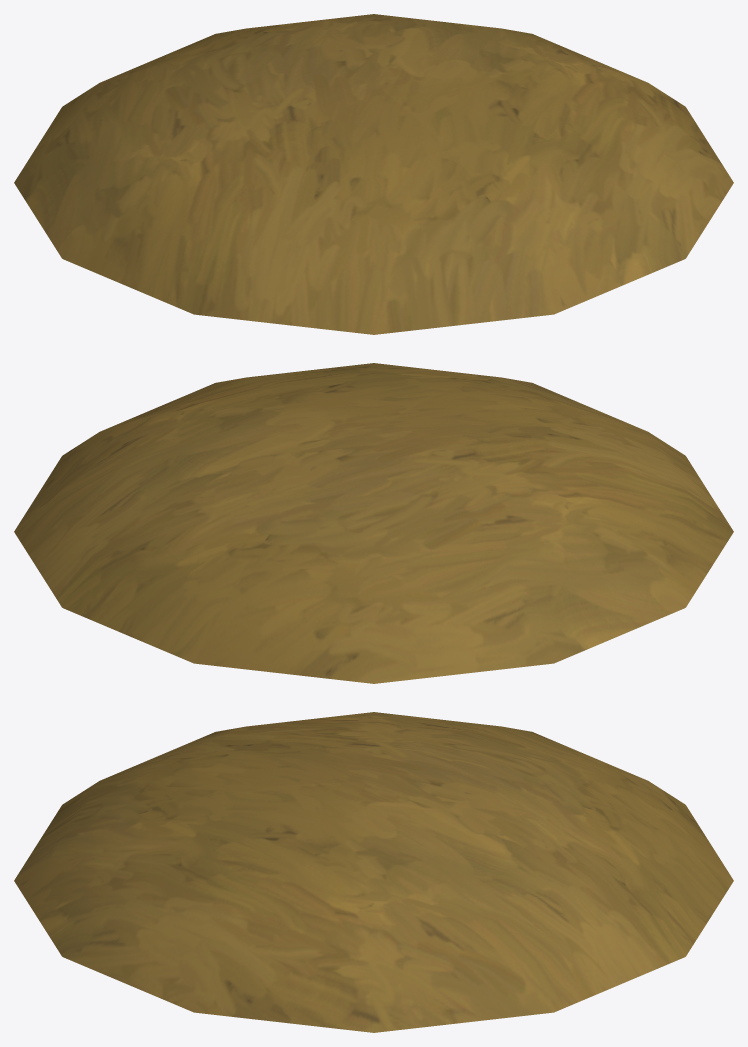
The model's file is e_courtyard_dirtmound.fbx.
3 renders of one model, top to bottom at view 1: azimuth 30°, elevation 25°; view 2: azimuth 150°, elevation 25°; view 3: azimuth 270°, elevation 25°, orthographic.
Parts seen in each view (by area): view 1: pSphere1; view 2: pSphere1; view 3: pSphere1.
Part boxes in pixels (left/top/right/bottom): pSphere1: left=14, top=14, right=733, bottom=334; pSphere1: left=14, top=363, right=733, bottom=683; pSphere1: left=14, top=712, right=733, bottom=1032.
Bounding box in the file's own units: 7.48 × 1.14 × 7.48.
